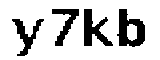7: (50, 6, 79, 49)
b: (116, 7, 147, 49)
k: (82, 7, 114, 48)
y: (9, 17, 45, 60)
